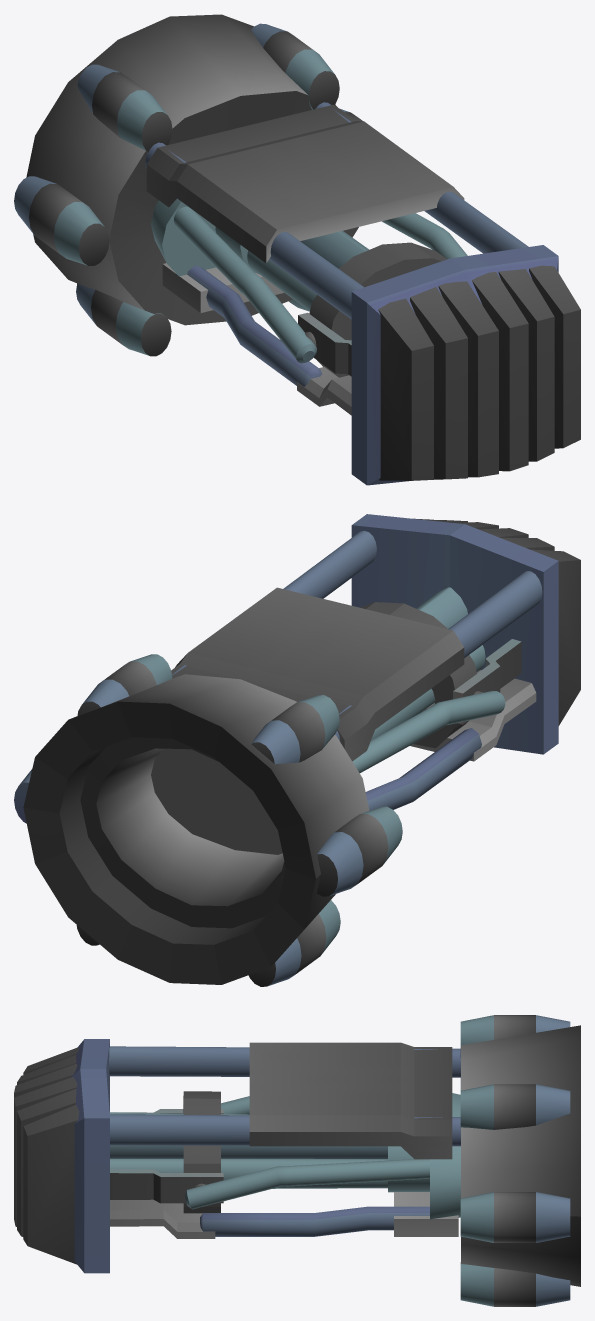
Rendered from HammerKnuckle.glb.
3 views of the same model, one above another, from view 1: azimuth 30°, elevation 25°; view 2: azimuth 150°, elevation 25°; view 3: azimuth 270°, elevation 25° (orthographic). The views are drawn at different scales.
Parts seen in each view (by area): view 1: Hammer-Knuckle; view 2: Hammer-Knuckle; view 3: Hammer-Knuckle.
Part boxes in pixels (x1,y1,x2,y2): Hammer-Knuckle: (14, 14, 580, 485); Hammer-Knuckle: (14, 514, 580, 986); Hammer-Knuckle: (14, 1015, 580, 1306).
Bounding box in the file's own units: 2.7 × 2.16 × 4.68.
1 material, 1 textured.
